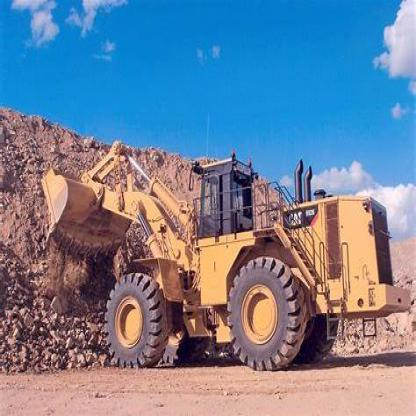bull_dozer/loader/grader: (39, 139, 414, 379)
